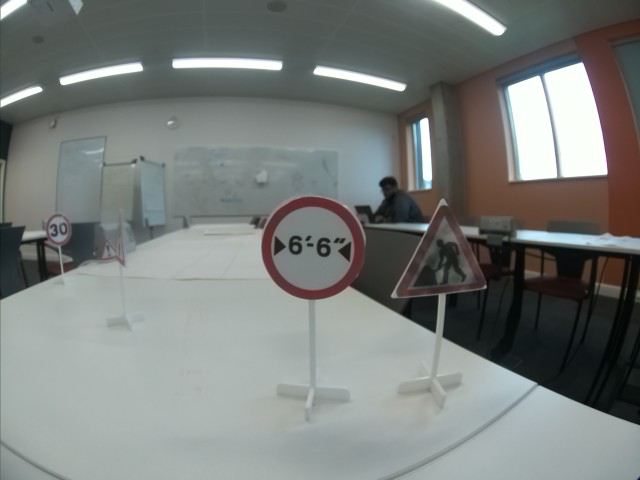30mph: (46, 213, 73, 245)
6ft6: (260, 196, 367, 301)
Roadworks: (396, 204, 491, 300)
Warning: (101, 240, 118, 260)
